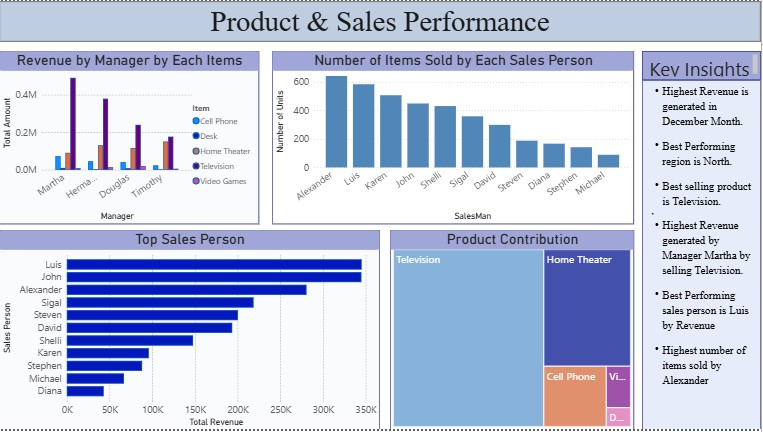

What the dashboard file says about the page in this screenshot:
{"tool":"powerbi","page":{"name":"Page 2","canvas":[1280,720],"ordinal":1},"visuals":[{"type":"treemap","title":"Product Contribution","fields":{"Group":["Table2.Item"],"Values":["Sum(Table2.Total Amount)"]},"box":[656.8,384.7,409.9,336],"z":0},{"type":"barChart","title":"Top Sales Person","fields":{"Category":["Table2.SalesMan"],"Y":["Sum(Table2.Total Amount)"]},"box":[0,384.7,640,336],"z":1000},{"type":"clusteredColumnChart","title":"Number of Items Sold by Each Sales Person","fields":{"Category":["Table2.SalesMan"],"Y":["Sum(Table2.Units)"]},"box":[458.6,84,608.1,290.6],"z":2000},{"type":"clusteredColumnChart","title":"Revenue by Manager by Each Items","fields":{"Category":["Table2.Manager"],"Y":["Sum(Table2.Total Amount)"],"Series":["Table2.Item"]},"box":[0,84,436.7,290.6],"z":3000},{"type":"shape","box":[0,0,1280,68.9],"z":4000},{"type":"textbox","box":[1080.1,84,199.9,48.7],"z":5000},{"type":"textbox","box":[1080.1,132.7,199.9,587.9],"z":6000}]}

Visuals, with their boxes in screenshot pixels (x1, y1, x2, y2), scaled from the page's 1280x720 canvas onto the 763x432 screenshot:
"Product Contribution" treemap: left=392, top=231, right=636, bottom=431
"Top Sales Person" barChart: left=0, top=231, right=382, bottom=431
"Number of Items Sold by Each Sales Person" clusteredColumnChart: left=273, top=50, right=636, bottom=225
"Revenue by Manager by Each Items" clusteredColumnChart: left=0, top=50, right=260, bottom=225
shape: left=0, top=0, right=762, bottom=41
textbox: left=644, top=50, right=762, bottom=80
textbox: left=644, top=80, right=762, bottom=431
